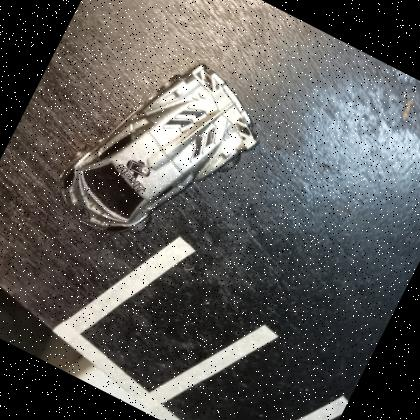Car: (61, 63, 258, 227)
